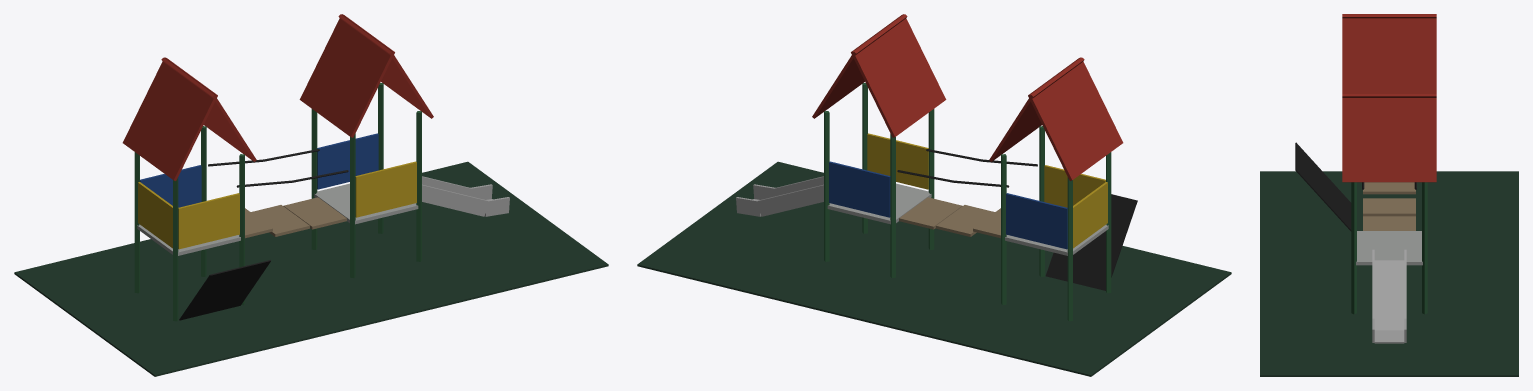
Rendered from SM_Prop_play_climber_0_LOD1.glb.
3 renders of one model, left to right at view 1: azimuth 30°, elevation 25°; view 2: azimuth 150°, elevation 25°; view 3: azimuth 270°, elevation 25°, orthographic. The views are drawn at different scales.
Visible parts, largest first — view 1: SM_Prop_play_climber_0_LOD1; view 2: SM_Prop_play_climber_0_LOD1; view 3: SM_Prop_play_climber_0_LOD1.
Part boxes in pixels (x1,y1,x2,y2): SM_Prop_play_climber_0_LOD1: (14, 14, 608, 376); SM_Prop_play_climber_0_LOD1: (637, 14, 1231, 376); SM_Prop_play_climber_0_LOD1: (1260, 14, 1518, 376).
Bounding box in the file's own units: 8.2 × 3.87 × 4.4.
